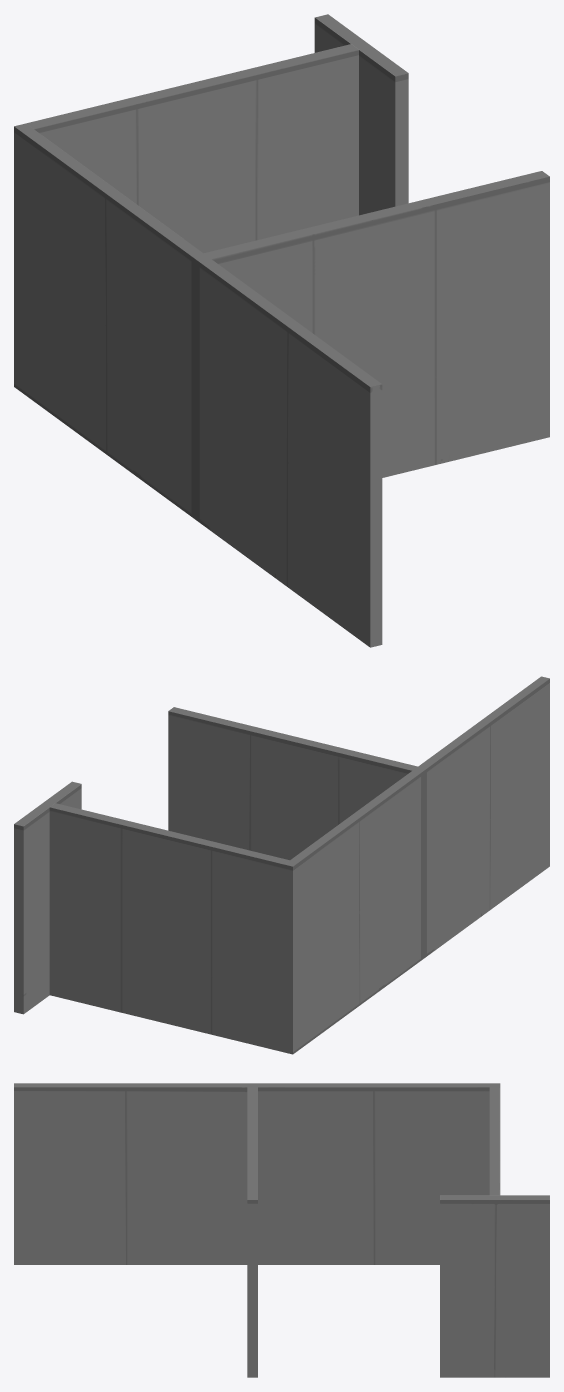
Rendered from Office-Cubicle_Middle.fbx.
The picture shows the model from 3 angles, top to bottom: view 1: azimuth 30°, elevation 25°; view 2: azimuth 150°, elevation 25°; view 3: azimuth 270°, elevation 25°; orthographic projection. The views are drawn at different scales.
Parts seen in each view (by area): view 1: Cubicle-Middle; view 2: Cubicle-Middle; view 3: Cubicle-Middle.
Boxes of the visible parts, <box> form: Cubicle-Middle: <box>14,14,549,647</box>; Cubicle-Middle: <box>14,676,549,1054</box>; Cubicle-Middle: <box>14,1083,549,1377</box>.
Size of the model in its own units: 253 by 180 by 492.
